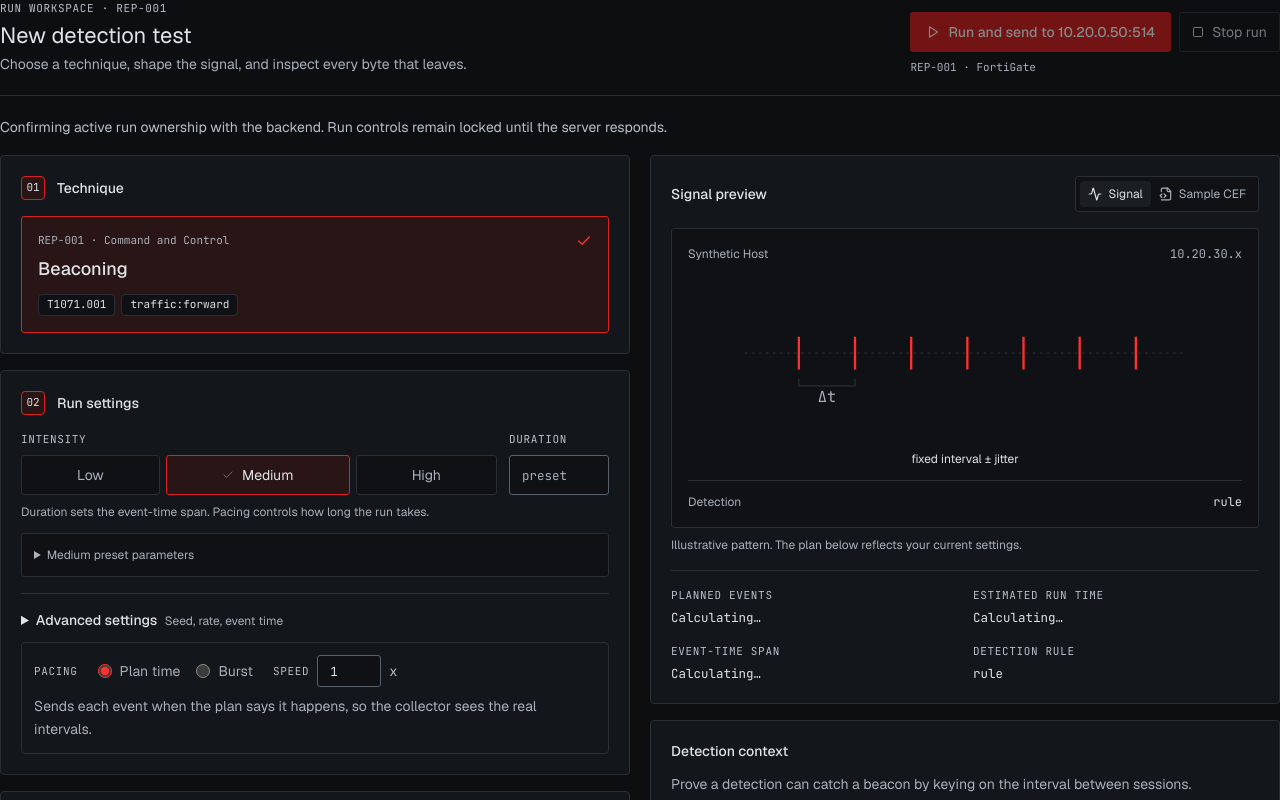
RunPanel pacing › warns that a burst leaves the timestamps spread out
Click the radio button labelled "Burst". click: (203, 671)
box: [196,664,210,678]
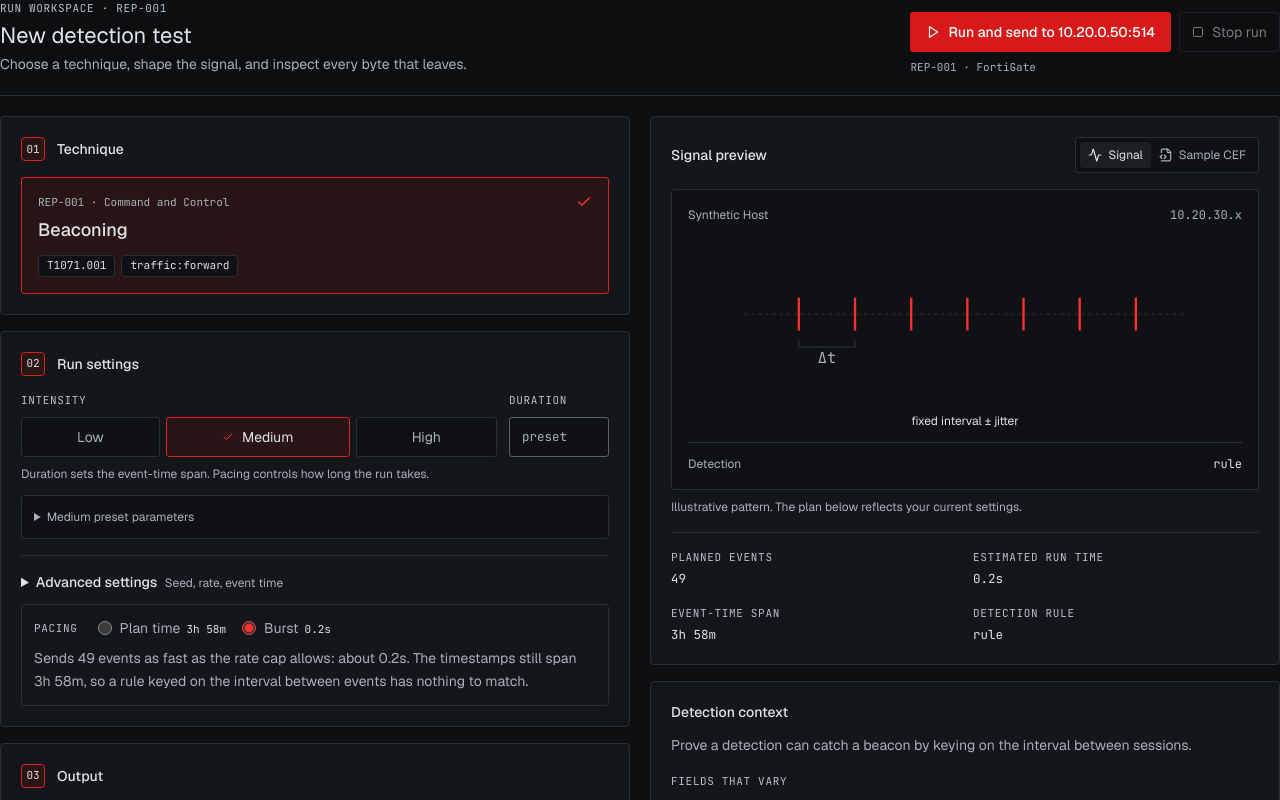
Check: the text with test id "pace-consequence" shows "3h 58m", box [34,649,577,690]
Check: the text with test id "pace-consequence" shows "nothing to match", box [34,649,577,690]
